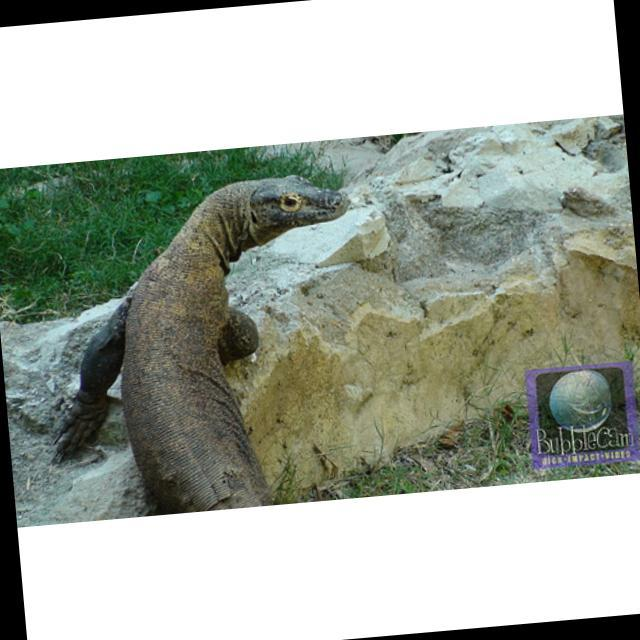KomodoDragon: (24, 163, 377, 518)
